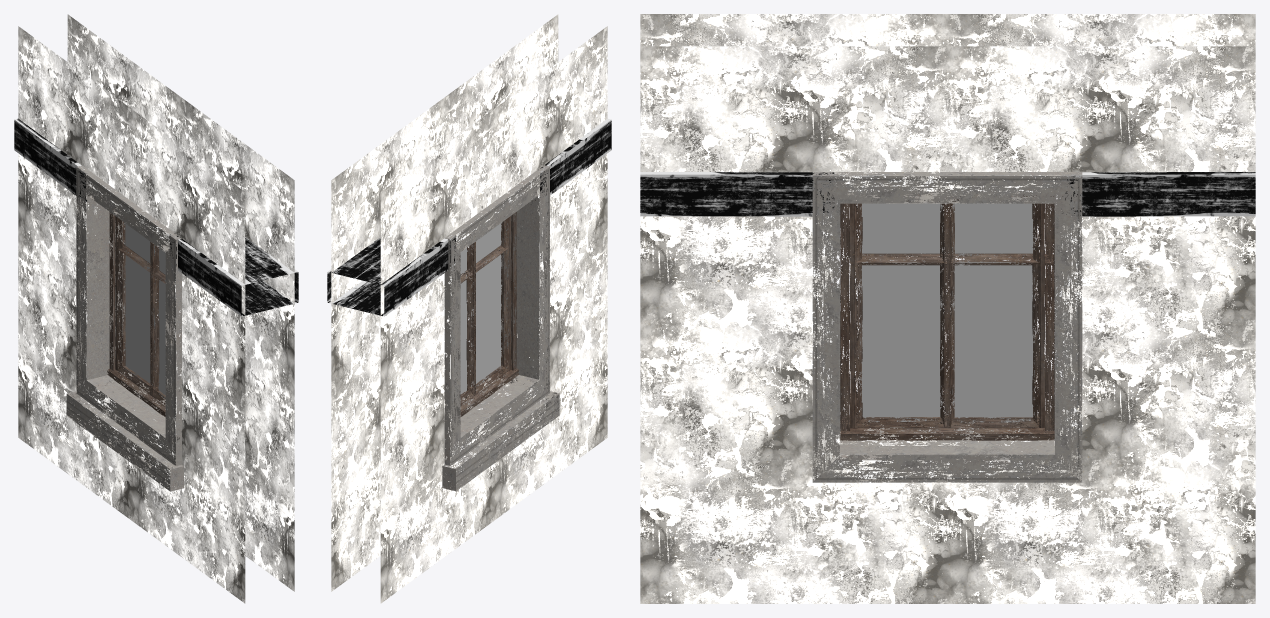
File: SM_wall_A_window_4x4_05_02.fbx
3 renders of one model, left to right at view 1: azimuth 30°, elevation 25°; view 2: azimuth 150°, elevation 25°; view 3: azimuth 270°, elevation 25°, orthographic. The views are drawn at different scales.
Visible parts, largest first — view 1: SM_wall_A_window_4x4_05_02_LOD0; view 2: SM_wall_A_window_4x4_05_02_LOD0; view 3: SM_wall_A_window_4x4_05_02_LOD0.
Boxes of the visible parts, x1,y1,x2,y2 form: SM_wall_A_window_4x4_05_02_LOD0: (14,14,298,603); SM_wall_A_window_4x4_05_02_LOD0: (327,14,611,603); SM_wall_A_window_4x4_05_02_LOD0: (640,14,1255,603).
Bounding box in the file's own units: 69.88 × 400 × 400.
6 materials, 5 textured.
